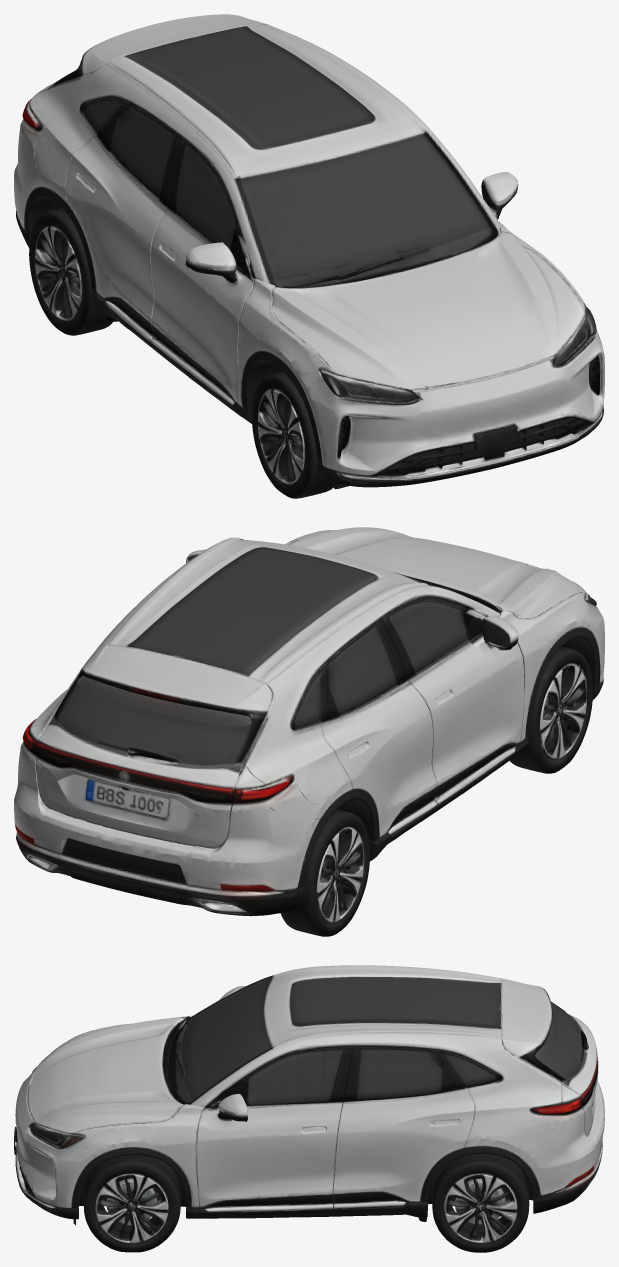
The model's file is car_suv.glb.
3 views of the same model, one above another, from view 1: azimuth 30°, elevation 25°; view 2: azimuth 150°, elevation 25°; view 3: azimuth 270°, elevation 25° (orthographic). The views are drawn at different scales.
Parts seen in each view (by area): view 1: tripo_node_8c5399f9-dbeb-4aed-8dcd-e58fa2274673; view 2: tripo_node_8c5399f9-dbeb-4aed-8dcd-e58fa2274673; view 3: tripo_node_8c5399f9-dbeb-4aed-8dcd-e58fa2274673.
Boxes of the visible parts, left/top/right/bottom form: tripo_node_8c5399f9-dbeb-4aed-8dcd-e58fa2274673: left=14, top=14, right=604, bottom=498; tripo_node_8c5399f9-dbeb-4aed-8dcd-e58fa2274673: left=14, top=527, right=604, bottom=936; tripo_node_8c5399f9-dbeb-4aed-8dcd-e58fa2274673: left=14, top=965, right=604, bottom=1252.
Size of the model in its own units: 2.12 by 1.6 by 4.23.
1 material, 1 textured.
